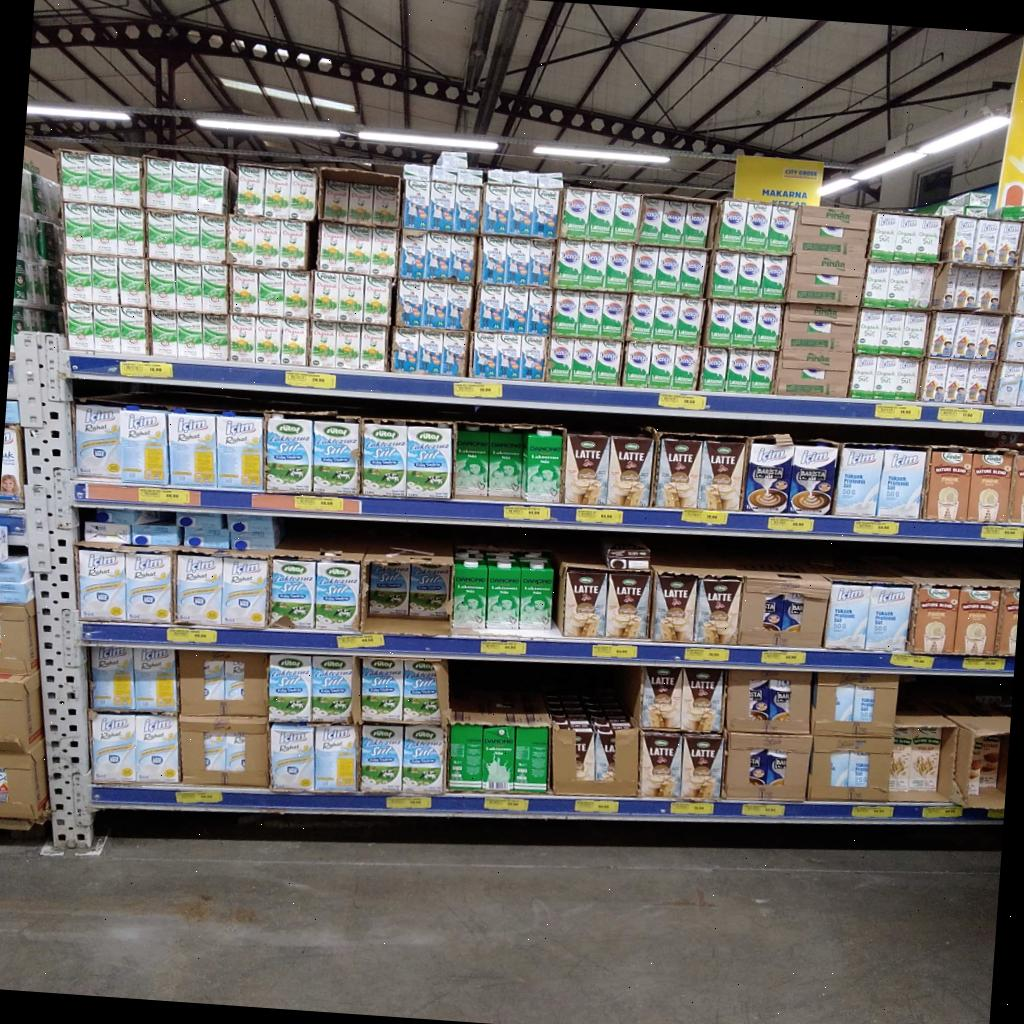price_tag: (137, 487, 192, 505), (120, 360, 172, 378), (293, 495, 345, 513), (285, 371, 336, 389), (453, 382, 502, 399), (167, 628, 218, 644), (576, 508, 623, 525), (659, 393, 706, 410), (938, 407, 984, 424), (875, 404, 921, 421), (682, 509, 727, 526), (480, 640, 526, 656), (336, 633, 384, 648), (761, 650, 805, 666), (504, 506, 550, 521), (684, 647, 730, 662), (853, 521, 899, 536), (891, 653, 934, 669), (769, 517, 814, 532), (593, 644, 638, 659), (981, 525, 1023, 541), (575, 799, 619, 814), (742, 803, 785, 818), (484, 798, 529, 812), (175, 791, 223, 804), (387, 796, 431, 810), (962, 657, 1005, 671), (672, 801, 714, 815), (852, 805, 893, 819), (923, 806, 962, 819), (987, 809, 1003, 819)
product: (121, 406, 170, 485), (745, 437, 795, 513), (265, 413, 313, 492), (788, 441, 839, 515), (558, 563, 608, 638), (695, 438, 746, 510), (922, 448, 972, 521), (169, 409, 216, 486), (313, 419, 360, 495), (75, 403, 121, 480), (217, 412, 263, 489), (78, 548, 127, 620), (835, 447, 885, 517), (407, 423, 453, 498), (877, 449, 926, 519), (362, 419, 406, 496), (655, 437, 702, 508), (910, 586, 959, 654), (176, 554, 222, 625), (270, 557, 316, 628), (968, 451, 1013, 523), (694, 577, 742, 644), (565, 433, 609, 506), (608, 436, 653, 507), (91, 713, 136, 783), (315, 560, 360, 630), (653, 572, 698, 642), (126, 553, 171, 622), (604, 571, 649, 640), (865, 586, 912, 652), (222, 558, 267, 626), (955, 588, 1000, 656), (824, 584, 871, 649), (402, 725, 445, 794), (523, 428, 562, 503), (312, 655, 355, 723), (360, 724, 403, 792), (270, 724, 313, 791), (640, 730, 682, 798), (269, 655, 311, 722), (133, 648, 177, 711), (315, 725, 357, 791), (681, 734, 723, 799), (92, 647, 135, 710), (452, 557, 488, 631), (486, 556, 521, 630), (361, 659, 402, 722), (682, 669, 723, 732), (488, 427, 524, 497), (519, 560, 554, 631), (640, 669, 681, 729), (401, 660, 440, 723), (455, 426, 488, 499), (65, 255, 116, 302), (409, 563, 450, 618), (907, 727, 941, 793), (369, 560, 409, 616), (514, 726, 548, 791), (482, 726, 515, 791), (451, 724, 484, 789), (966, 316, 1006, 362), (942, 215, 978, 263), (996, 584, 1020, 656), (227, 217, 261, 266), (275, 221, 308, 269), (145, 158, 175, 210), (61, 151, 91, 202), (197, 164, 227, 214), (480, 236, 511, 284), (561, 188, 590, 239), (117, 258, 147, 307), (717, 200, 747, 249), (869, 213, 899, 262), (114, 208, 144, 256), (119, 306, 149, 354), (236, 165, 264, 216), (532, 188, 560, 239), (442, 284, 473, 330), (171, 213, 200, 262), (586, 191, 615, 240), (87, 153, 114, 205), (404, 178, 431, 230), (90, 205, 118, 255), (757, 256, 788, 301), (174, 312, 203, 360), (766, 206, 795, 254), (753, 303, 782, 351), (894, 216, 924, 262), (264, 168, 291, 219), (318, 222, 346, 271), (363, 276, 391, 325), (875, 311, 906, 355), (198, 215, 226, 263), (255, 317, 283, 365), (556, 240, 584, 288), (426, 232, 454, 280), (398, 279, 426, 327), (677, 297, 705, 345), (707, 299, 735, 347), (420, 282, 449, 328), (627, 295, 656, 341), (65, 203, 91, 254), (430, 181, 456, 232), (483, 183, 509, 234), (66, 303, 94, 350), (93, 305, 121, 352), (594, 340, 623, 385), (114, 157, 140, 207), (172, 161, 198, 211), (290, 170, 316, 220), (148, 261, 175, 309), (175, 262, 202, 310), (229, 315, 256, 363), (929, 314, 959, 357), (369, 229, 397, 275), (399, 233, 427, 279), (599, 293, 627, 339), (889, 729, 909, 793), (862, 263, 891, 307), (509, 185, 534, 236), (613, 193, 639, 242), (147, 212, 174, 259), (337, 274, 364, 321), (604, 244, 631, 291), (526, 288, 553, 335), (151, 310, 179, 355), (476, 286, 504, 331), (202, 266, 228, 314), (313, 271, 339, 319), (453, 185, 479, 233), (744, 203, 770, 251), (1008, 446, 1024, 524), (309, 322, 336, 368), (683, 202, 710, 248), (631, 246, 658, 292), (449, 236, 476, 282), (901, 312, 928, 358), (321, 178, 349, 222), (679, 251, 707, 295), (891, 358, 920, 400), (501, 288, 528, 333), (552, 291, 579, 336), (652, 297, 679, 342), (440, 331, 467, 376), (908, 264, 935, 309), (995, 362, 1023, 405), (92, 256, 118, 302), (258, 270, 284, 316), (254, 220, 280, 266), (281, 320, 307, 366), (979, 736, 1002, 788), (736, 254, 763, 298), (712, 253, 739, 297), (654, 248, 681, 292), (581, 243, 608, 287), (623, 343, 650, 387), (672, 345, 699, 389), (954, 315, 981, 359), (873, 357, 901, 399), (203, 314, 228, 361), (284, 271, 309, 318), (528, 240, 553, 287), (505, 238, 530, 285), (232, 269, 258, 314), (345, 228, 371, 273), (360, 325, 386, 370), (732, 302, 758, 347), (576, 293, 603, 336), (975, 219, 1000, 265), (334, 326, 360, 370), (471, 333, 497, 377), (857, 310, 883, 354), (850, 356, 877, 398), (916, 218, 941, 263), (372, 184, 398, 227), (521, 335, 545, 381), (571, 340, 596, 384), (997, 222, 1022, 266), (887, 264, 912, 308), (942, 360, 968, 402), (497, 334, 521, 379), (659, 201, 684, 244), (394, 329, 419, 372), (649, 345, 674, 388), (725, 350, 750, 393), (750, 350, 775, 393), (701, 349, 727, 390), (975, 271, 1003, 309), (750, 351, 775, 393), (923, 359, 948, 401), (347, 184, 373, 224), (966, 363, 992, 403), (419, 330, 442, 375), (640, 198, 663, 242), (954, 270, 979, 308), (549, 339, 571, 382), (1004, 317, 1024, 361), (967, 741, 983, 794), (943, 267, 956, 308), (1014, 270, 1024, 315), (1017, 368, 1024, 405)
